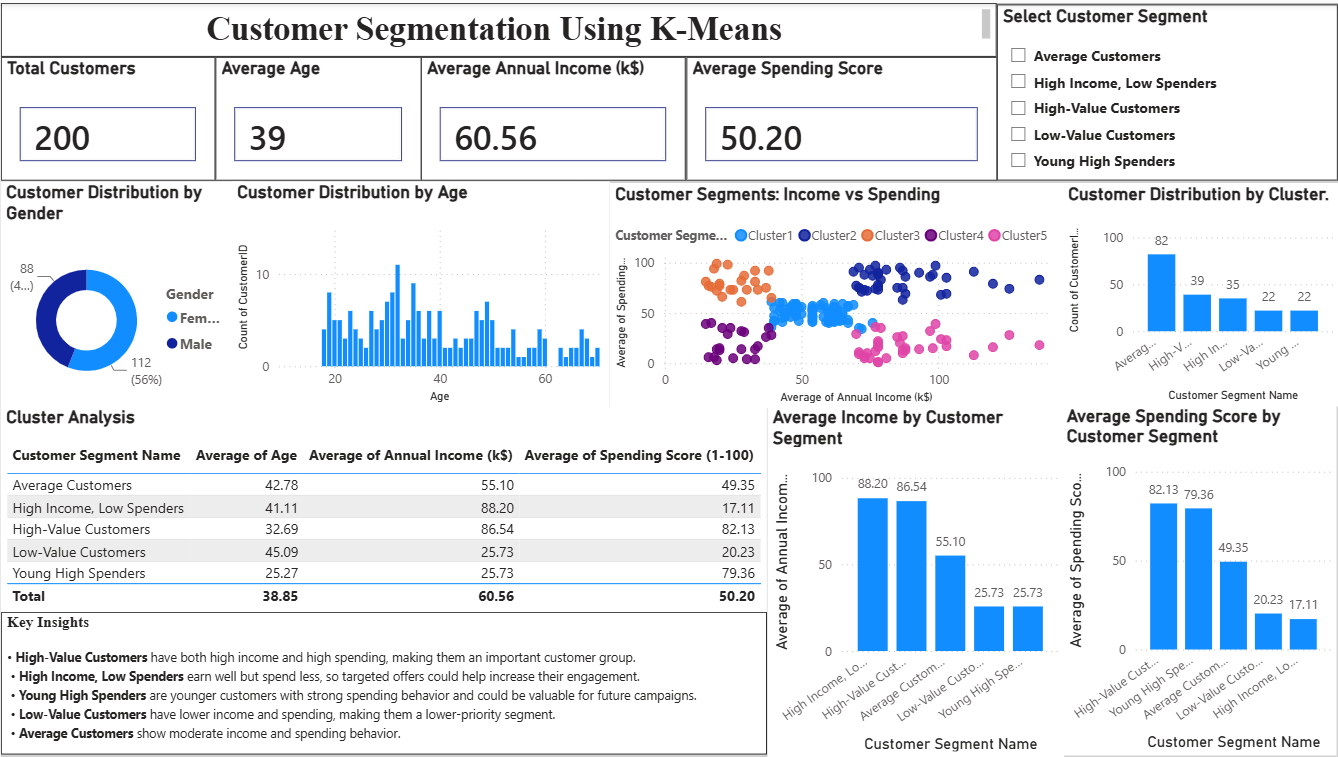

What the dashboard file says about the page in this screenshot:
{"tool":"powerbi","page":{"name":"Overview","canvas":[1280,720],"ordinal":0},"visuals":[{"type":"cardVisual","title":"Total Customers","fields":{"Data":["CountNonNull(Customer_Data.CustomerID)"]},"box":[0,51,204.1,119.1],"z":0},{"type":"cardVisual","title":"Average Age","fields":{"Data":["Avg(Customer_Data.Age)"]},"box":[204.1,51,196.5,119.1],"z":1000},{"type":"cardVisual","title":"Average Annual Income (k$)","fields":{"Data":["Avg(Customer_Data.Annual Income (k$))"]},"box":[400.6,51,253.2,119.1],"z":2000},{"type":"cardVisual","title":"Average Spending Score","fields":{"Data":["Avg(Customer_Data.Spending Score (1-100))"]},"box":[653.9,51,298.6,119.1],"z":3000},{"type":"donutChart","title":"Customer Distribution by Gender","fields":{"Category":["Customer_Data.Gender"],"Y":["CountNonNull(Customer_Data.CustomerID)"]},"box":[0,170.1,230.6,215.4],"z":4000},{"type":"clusteredColumnChart","title":"Customer Distribution by Age","fields":{"Category":["Customer_Data.Age"],"Y":["CountNonNull(Customer_Data.CustomerID)"]},"box":[221.1,170.1,360.9,215.4],"z":5000},{"type":"scatterChart","title":"Annual Income vs Spending Score","fields":{"X":["Sum(Customer_Data.Annual Income (k$))"],"Y":["Sum(Customer_Data.Spending Score (1-100))"],"Category":["Customer_Data.CustomerID"],"Series":["Customer_Data.Customer Segments (K-Means)"]},"box":[583.9,172,430.9,213.5],"z":6000},{"type":"clusteredColumnChart","title":"Customer Distribution by Cluster.","fields":{"Y":["CountNonNull(Customer_Data.CustomerID)"],"Category":["Customer_Data.Customer Segment Name"]},"box":[1014.8,172,262.7,213.5],"z":7000},{"type":"tableEx","title":"Cluster Analysis","fields":{"Values":["Customer_Data.Customer Segment Name","Avg(Customer_Data.Age)","Avg(Customer_Data.Annual Income (k$))","Avg(Customer_Data.Spending Score (1-100))"]},"box":[0,385.5,731.3,198.4],"z":8000},{"type":"clusteredColumnChart","title":"Average Income by Customer Segment","fields":{"Category":["Customer_Data.Customer Segment Name"],"Y":["Avg(Customer_Data.Annual Income (k$))"]},"box":[731.3,385.5,283.5,334.5],"z":9000},{"type":"clusteredColumnChart","title":"Average Spending Score by Customer Segment","fields":{"Category":["Customer_Data.Customer Segment Name"],"Y":["Avg(Customer_Data.Spending Score (1-100))"]},"box":[1014.8,385.5,262.7,334.5],"z":10000},{"type":"slicer","title":"Select Customer Segment","fields":{"Values":["Customer_Data.Customer Segment Name"]},"box":[952.4,0,325,170.1],"z":11000},{"type":"textbox","box":[0,0,952.4,51],"z":12000},{"type":"textbox","title":"Key Insights","box":[0,583.9,731.3,136.1],"z":13000}]}

Visuals, with their boxes in screenshot pixels (x1, y1, x2, y2), scaled from the page's 1280x720 canvas onto the 1338x757 screenshot:
"Total Customers" cardVisual: [0,54,213,179]
"Average Age" cardVisual: [213,54,419,179]
"Average Annual Income (k$)" cardVisual: [419,54,683,179]
"Average Spending Score" cardVisual: [684,54,996,179]
"Customer Distribution by Gender" donutChart: [0,179,241,405]
"Customer Distribution by Age" clusteredColumnChart: [231,179,608,405]
"Annual Income vs Spending Score" scatterChart: [610,181,1061,405]
"Customer Distribution by Cluster." clusteredColumnChart: [1061,181,1335,405]
"Cluster Analysis" tableEx: [0,405,764,614]
"Average Income by Customer Segment" clusteredColumnChart: [764,405,1061,756]
"Average Spending Score by Customer Segment" clusteredColumnChart: [1061,405,1335,756]
"Select Customer Segment" slicer: [996,0,1335,179]
textbox: [0,0,996,54]
"Key Insights" textbox: [0,614,764,756]
